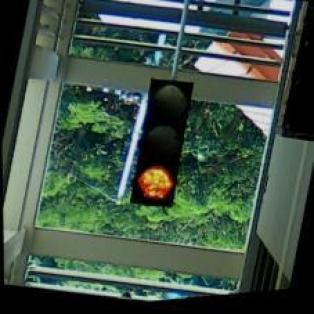Semoforo Rojo: (124, 79, 198, 216)
